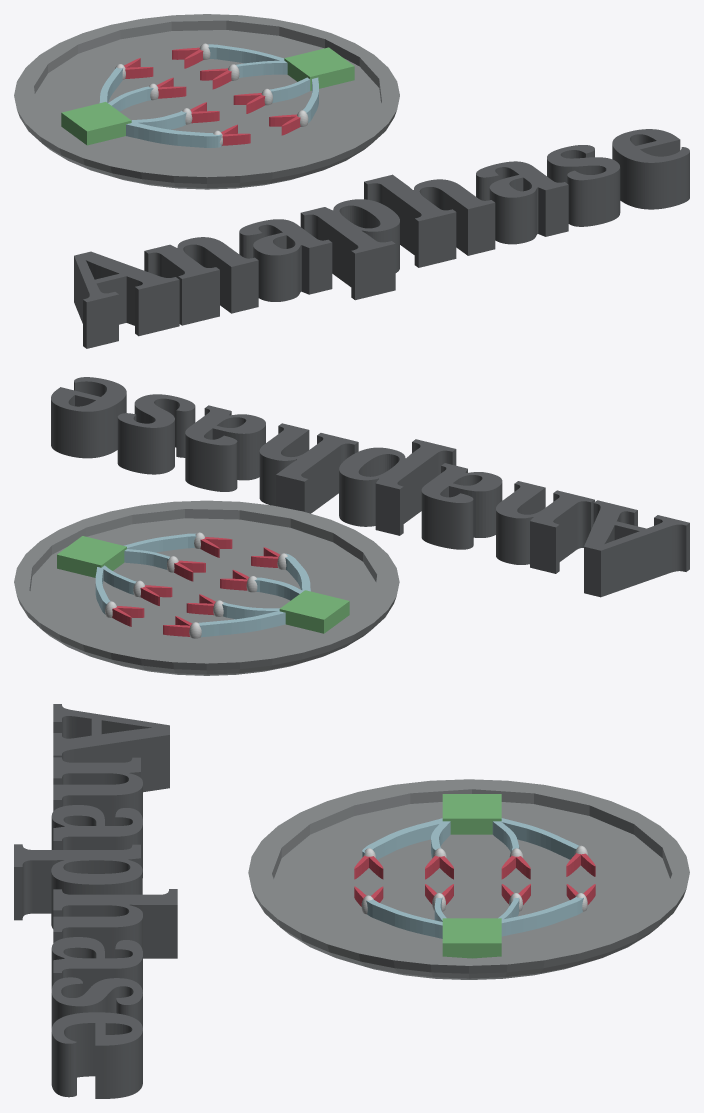
File: Anaphase.glb
3 views of the same model, one above another, from view 1: azimuth 30°, elevation 25°; view 2: azimuth 150°, elevation 25°; view 3: azimuth 270°, elevation 25° (orthographic). The views are drawn at different scales.
Parts seen in each view (by area): view 1: Mesh_Mesh_head_geo.001_lambert2SG.001; view 2: Mesh_Mesh_head_geo.001_lambert2SG.001; view 3: Mesh_Mesh_head_geo.001_lambert2SG.001.
Boxes of the visible parts, left/top/right/bottom form: Mesh_Mesh_head_geo.001_lambert2SG.001: left=14, top=14, right=689, bottom=348; Mesh_Mesh_head_geo.001_lambert2SG.001: left=14, top=377, right=689, bottom=675; Mesh_Mesh_head_geo.001_lambert2SG.001: left=14, top=704, right=689, bottom=1098.
Bounding box in the file's own units: 137 × 11 × 115.
